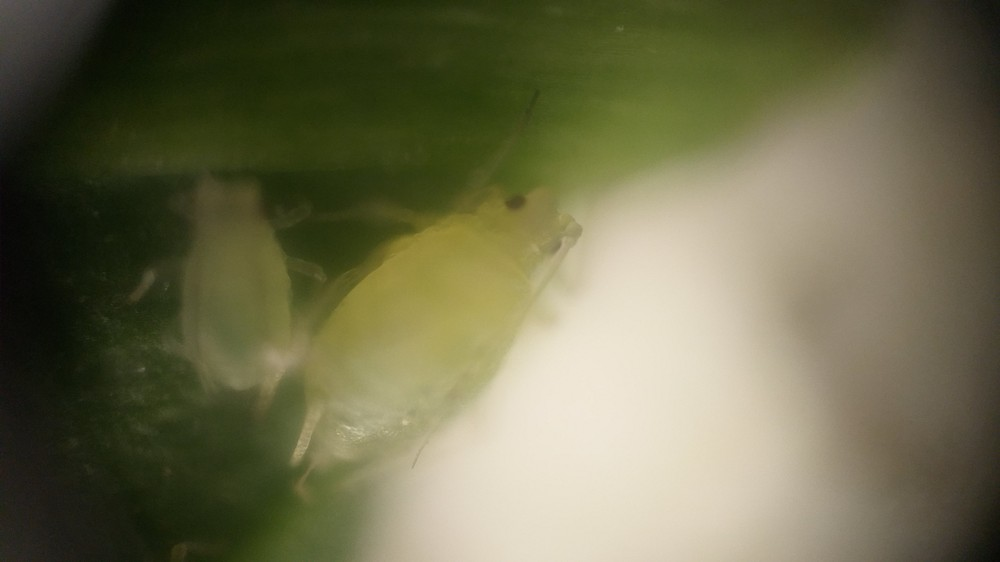Pulgon: (297, 115, 589, 523), (135, 149, 325, 428)
